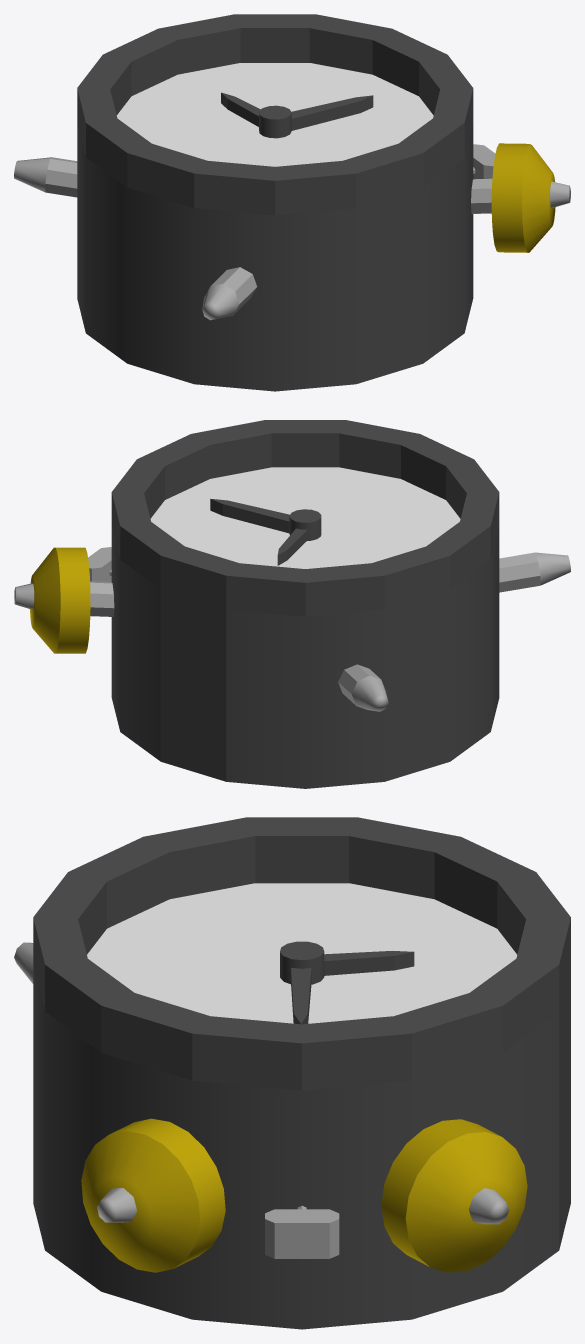
File: SU_Clock.fbx
3 views of the same model, one above another, from view 1: azimuth 30°, elevation 25°; view 2: azimuth 150°, elevation 25°; view 3: azimuth 270°, elevation 25° (orthographic). The views are drawn at different scales.
Visible parts, largest first — view 1: pCylinder6; view 2: pCylinder6; view 3: pCylinder6.
Part boxes in pixels (box(x1,y1,x2,y2)): pCylinder6: box(14, 14, 570, 391); pCylinder6: box(14, 420, 570, 788); pCylinder6: box(14, 817, 570, 1329).
Size of the model in its own units: 15.93 by 7.98 by 14.08.
